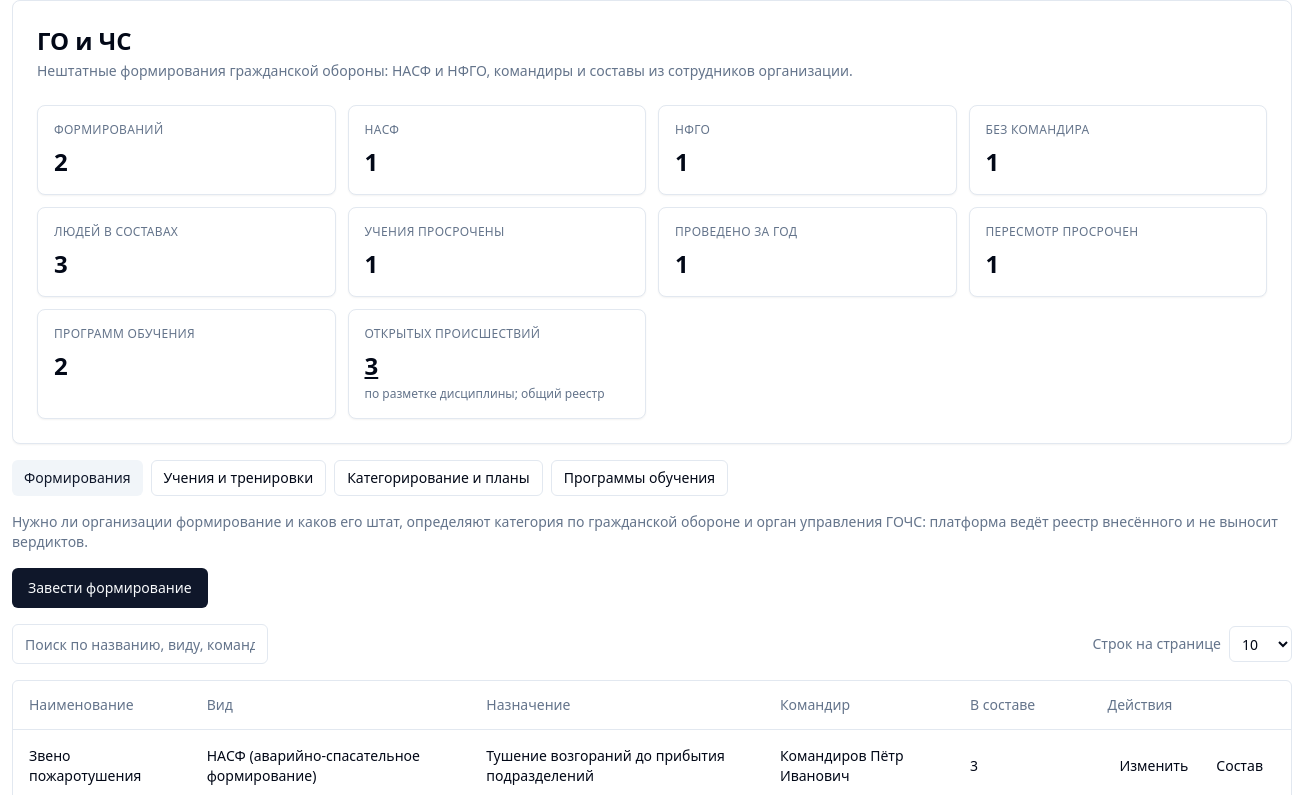
Test case: CivilDefensePage › программы обучения открываются четвёртой секцией и только на чтение
The width and height of the screenshot is (1304, 795).
Click the button "Программы обучения" at (639, 478), box [551,460,728,496]
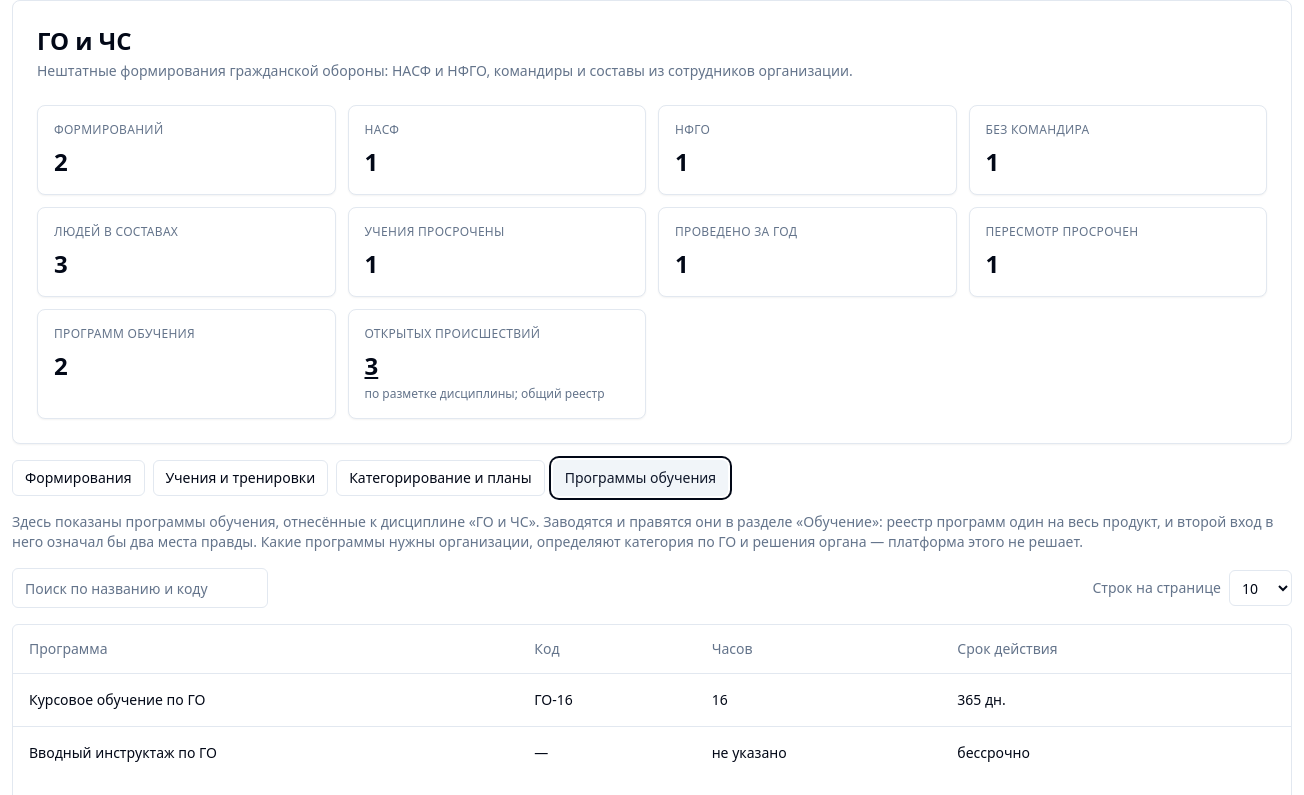
Result: the text "Курсовое обучение по ГО" is shown at [13,673,518,726]
Result: the text "не указано" is shown at [696,726,941,778]
Result: the text "бессрочно" is shown at [941,726,1291,778]
